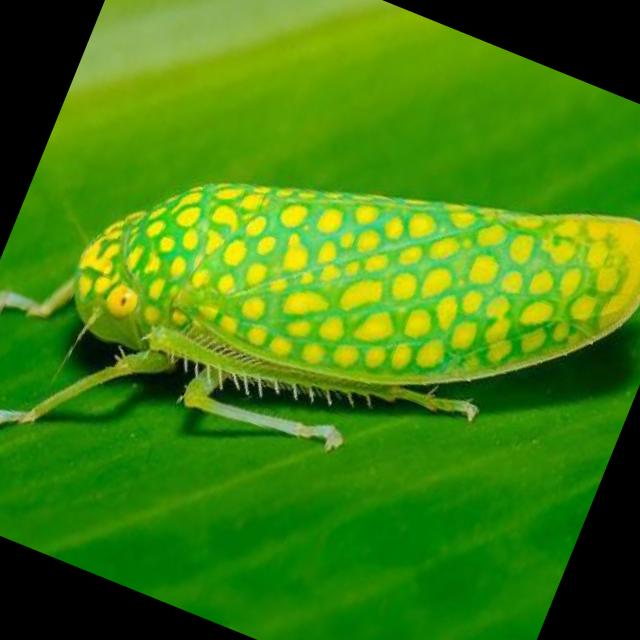green-leafhopper: (51, 35, 640, 548)
